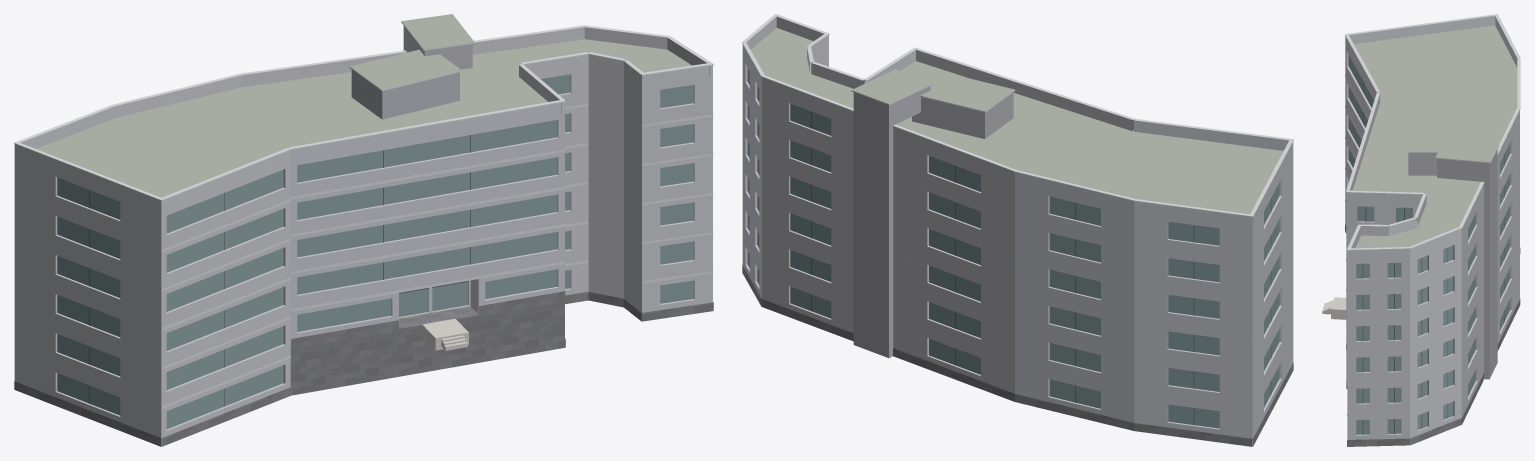
3 views of the same model, side by side, from view 1: azimuth 30°, elevation 25°; view 2: azimuth 150°, elevation 25°; view 3: azimuth 270°, elevation 25° (orthographic). The views are drawn at different scales.
Parts seen in each view (by area): view 1: b139__wall, b139__glass, b139__roof, b139__base, b139__parapet, b139__trim, b139__wall2, b139__entranceStair; view 2: b139__wall, b139__roof, b139__glass, b139__wall2, b139__parapet, b139__base, b139__trim, b139__frame; view 3: b139__wall, b139__roof, b139__glass, b139__parapet, b139__wall2, b139__trim, b139__base, b139__frame, b139__entranceStair.
Boxes of the visible parts, <box> form: b139__wall: <box>14,65,712,446</box>; b139__glass: <box>57,74,693,429</box>; b139__roof: <box>36,14,691,446</box>; b139__base: <box>14,291,713,446</box>; b139__parapet: <box>14,27,712,211</box>; b139__trim: <box>14,21,713,408</box>; b139__wall2: <box>351,26,472,119</box>; b139__entranceStair: <box>422,318,468,350</box>; b139__wall: <box>742,45,1293,446</box>; b139__roof: <box>751,28,1283,446</box>; b139__glass: <box>747,68,1279,428</box>; b139__wall2: <box>853,86,1013,357</box>; b139__parapet: <box>742,16,1293,227</box>; b139__base: <box>742,264,1293,446</box>; b139__trim: <box>742,14,1293,217</box>; b139__frame: <box>758,87,1271,424</box>; b139__wall: <box>1345,44,1519,444</box>; b139__roof: <box>1353,25,1517,248</box>; b139__glass: <box>1348,55,1510,434</box>; b139__parapet: <box>1345,16,1519,259</box>; b139__wall2: <box>1408,149,1497,379</box>; b139__trim: <box>1345,14,1520,415</box>; b139__base: <box>1345,225,1520,446</box>; b139__frame: <box>1362,81,1504,434</box>; b139__entranceStair: <box>1322,297,1346,319</box>.
Size of the model in its own units: 58.31 by 25.13 by 20.71.
10 materials, 1 textured.
